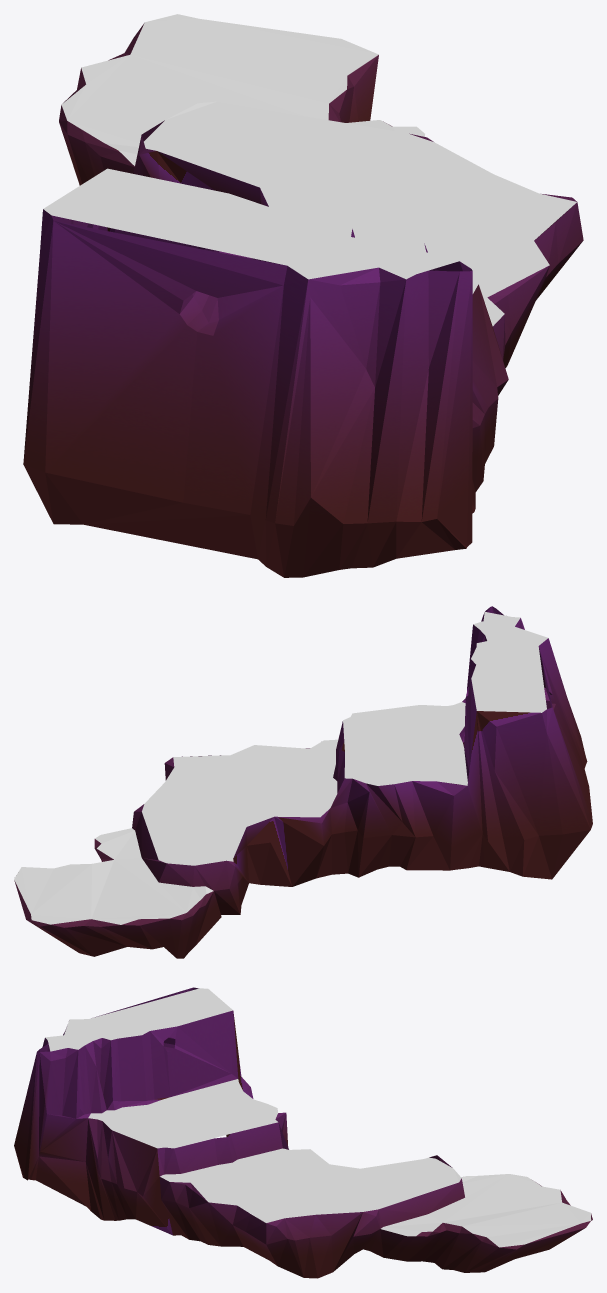
Rendered from Mod_Level4_Versie3.fbx.
3 renders of one model, top to bottom at view 1: azimuth 30°, elevation 25°; view 2: azimuth 150°, elevation 25°; view 3: azimuth 270°, elevation 25°, orthographic. The views are drawn at different scales.
Visible parts, largest first — view 1: MOD_Level4Side1, MOD_Level4Floor; view 2: MOD_Level4Side1, MOD_Level4Floor; view 3: MOD_Level4Side1, MOD_Level4Floor.
Part boxes in pixels (x1=…): MOD_Level4Side1: x1=23, y1=23, x2=583, y2=577; MOD_Level4Floor: x1=43, y1=14, x2=576, y2=326; MOD_Level4Side1: x1=14, y1=606, x2=592, y2=958; MOD_Level4Floor: x1=14, y1=612, x2=547, y2=924; MOD_Level4Side1: x1=14, y1=987, x2=592, y2=1278; MOD_Level4Floor: x1=45, y1=988, x2=591, y2=1247.
Size of the model in its own units: 14.69 by 6.27 by 21.66.
